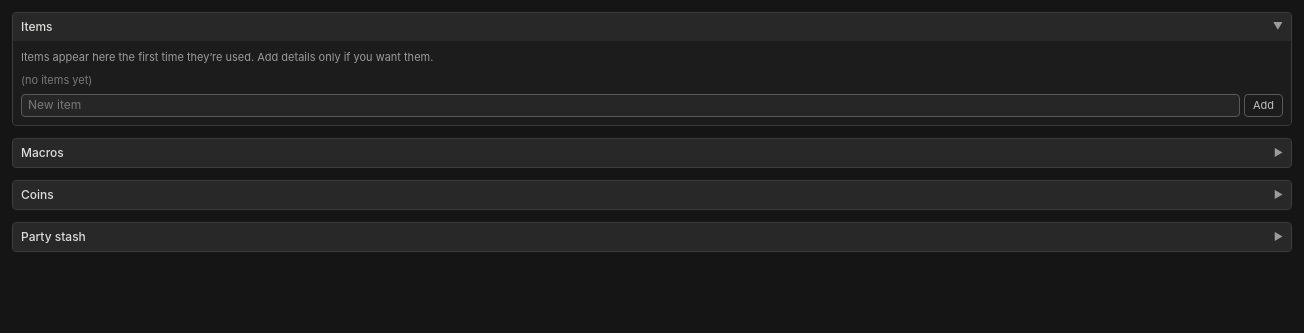
Test: items tab › creates a party stash
Click the button "Party stash ▶" at (53, 236), box [13,222,1291,250]
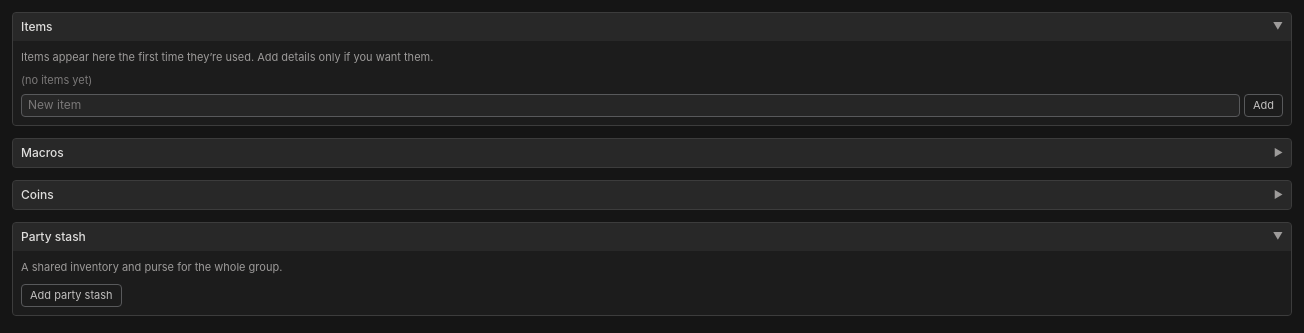
Click the button with test id "party-create" at (71, 295), box [21,284,122,306]
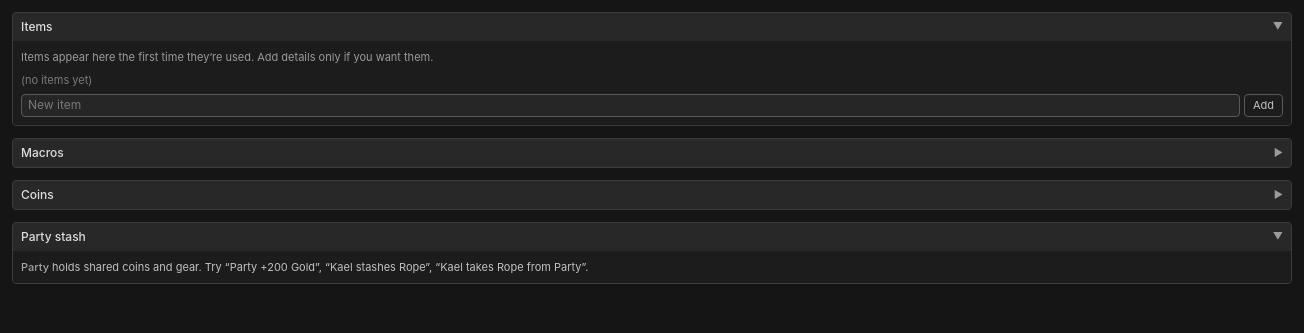
Expected: the text "Party" is shown, [21,260,49,274]
